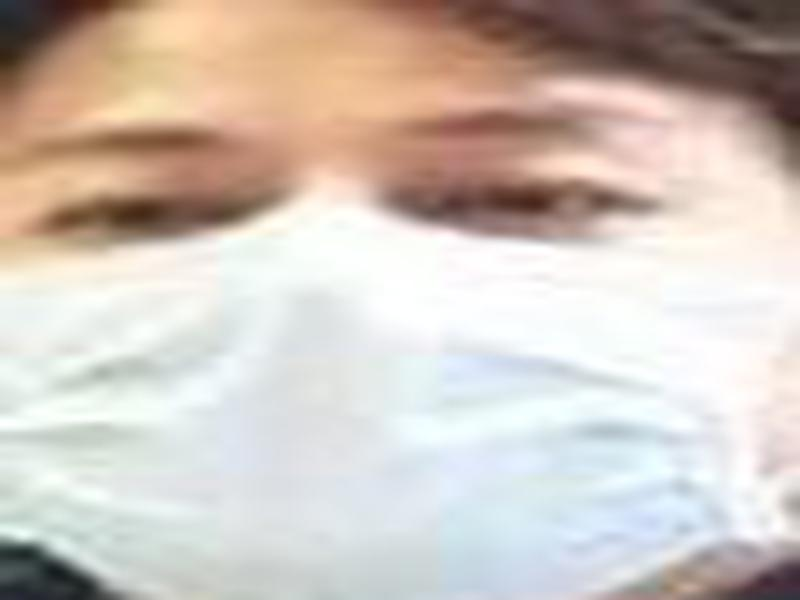with_mask: (1, 7, 798, 600)
